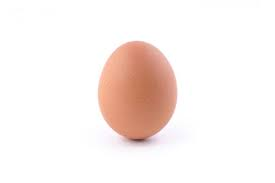egg: (98, 41, 178, 139)
